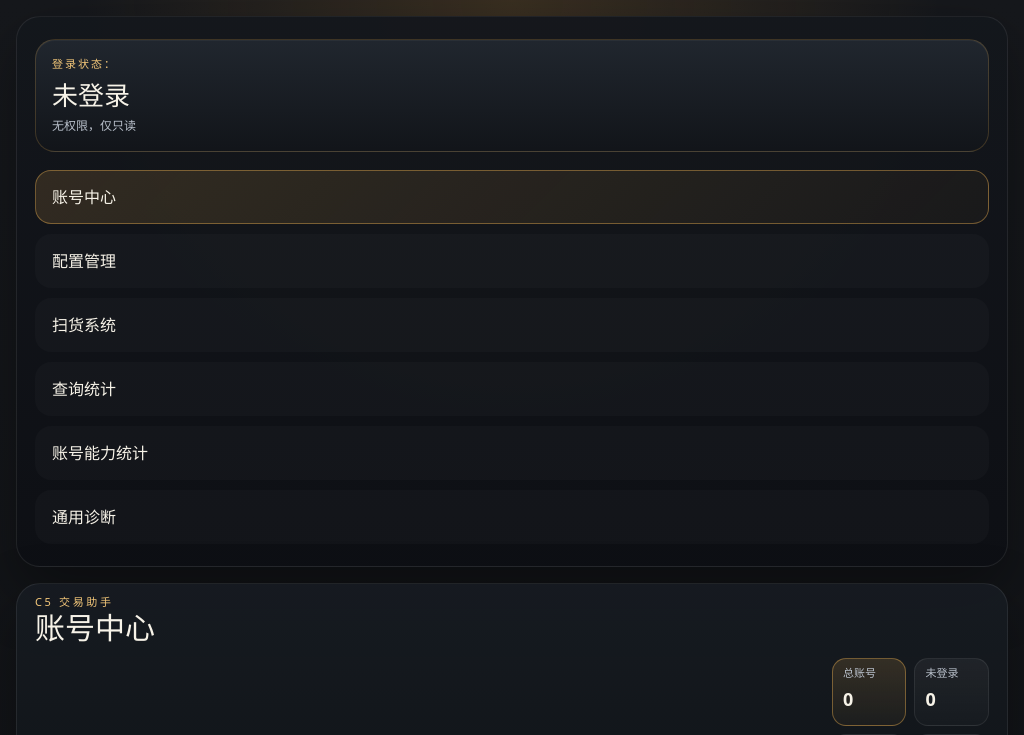
Test: account capability stats page › switches to the account capability page and defaults to today's account performance cells
Click the button "账号能力统计".
click(100, 453)  # box [35,426,989,480]
(page scrolled)
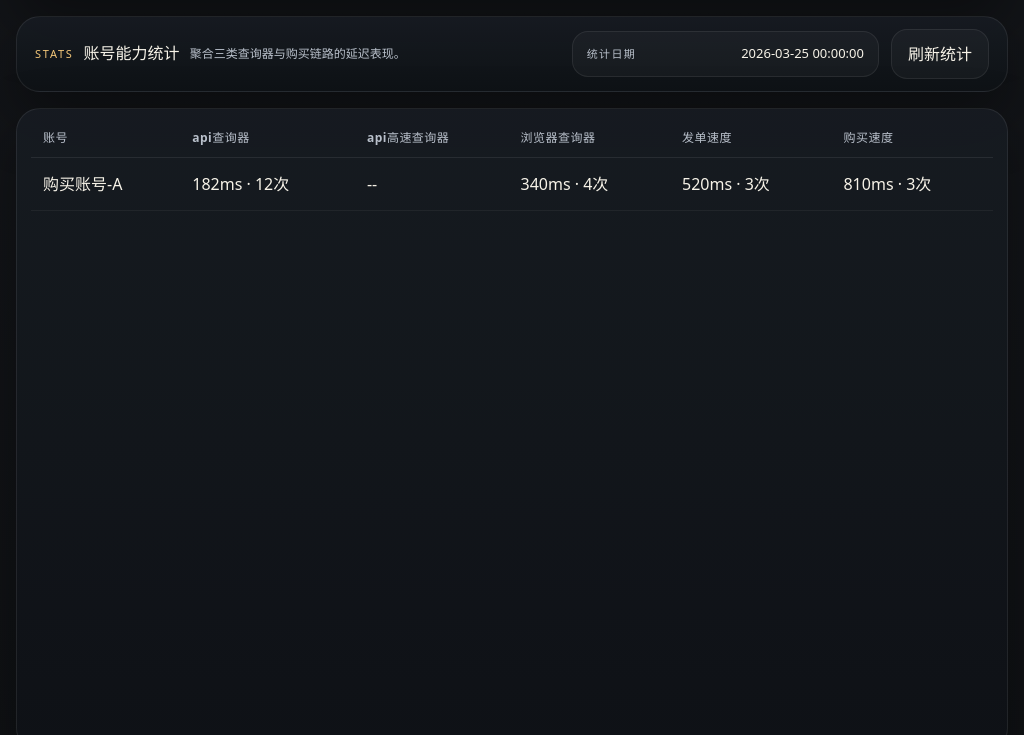
expect the text "购买账号-A" is shown: met, box [31,158,180,211]
expect the text "182ms · 12次" is shown: met, box [180,158,355,211]
expect the text "--" is shown: met, box [355,158,509,211]
